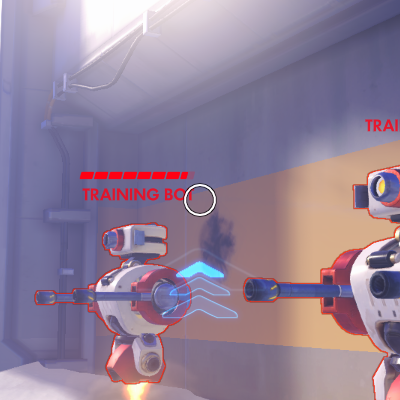hpbar: (79, 171, 195, 180)
